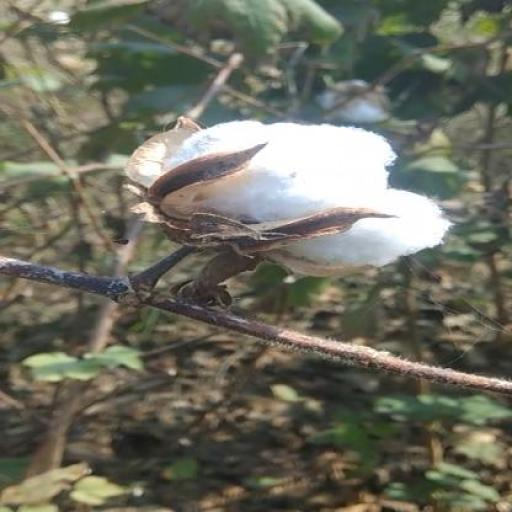cotton_ready: (92, 97, 459, 339)
